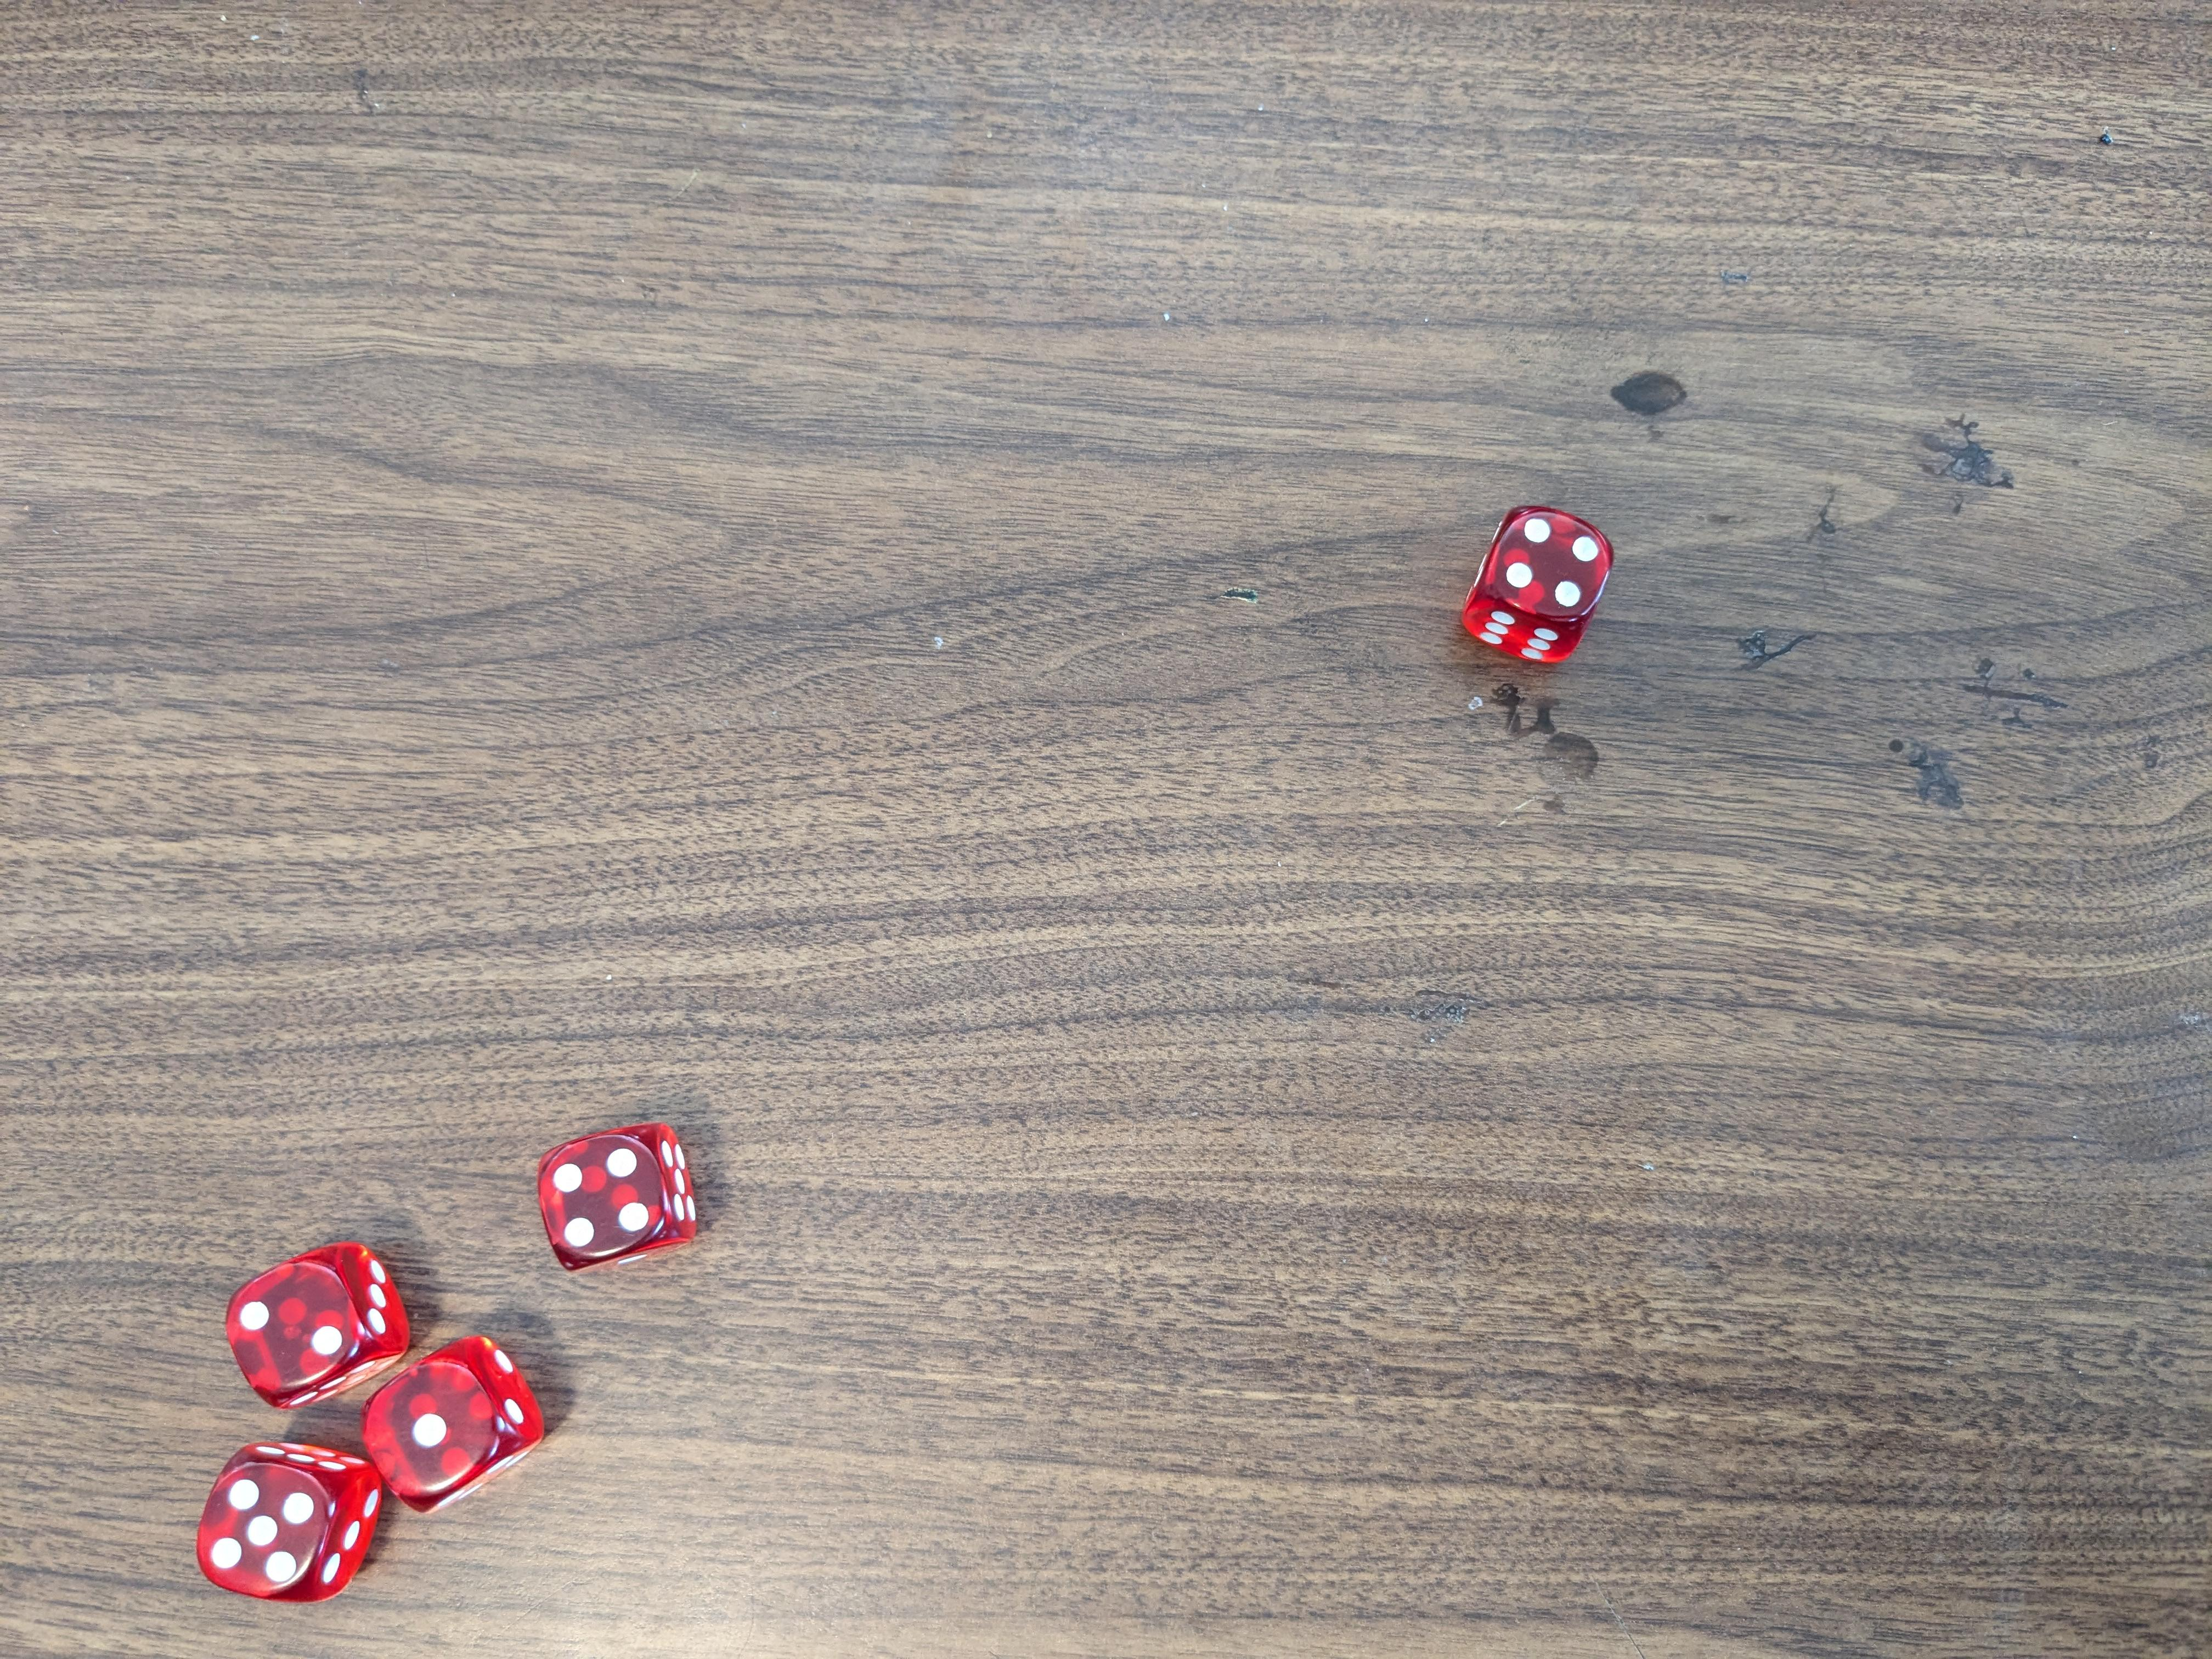five: (199, 1441, 381, 1612)
four: (1463, 507, 1615, 673), (529, 1121, 702, 1262)
one: (361, 1335, 543, 1513)
two: (226, 1243, 413, 1408)
